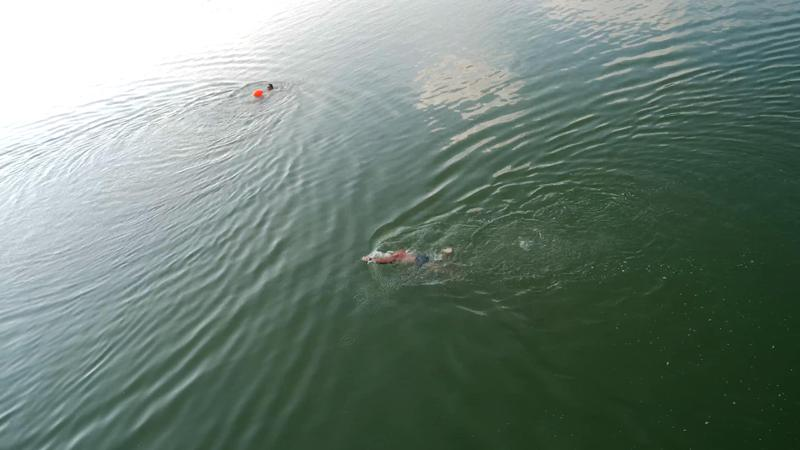swimmers: (360, 247, 451, 269)
